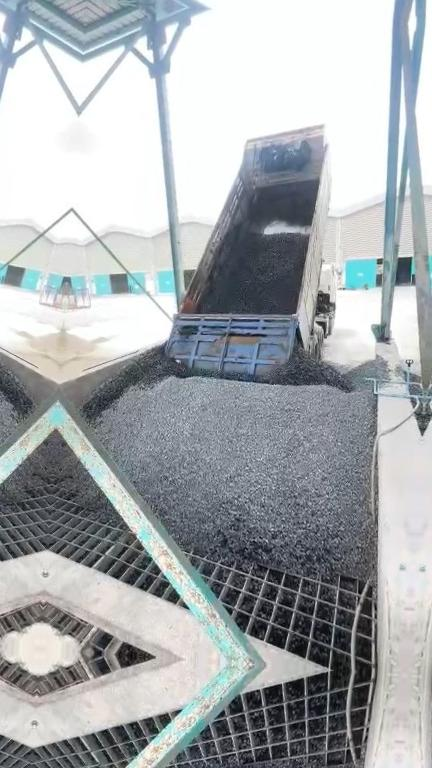gravel: (81, 340, 392, 577), (200, 232, 308, 314), (53, 433, 115, 521)
sand: (60, 331, 130, 378)
